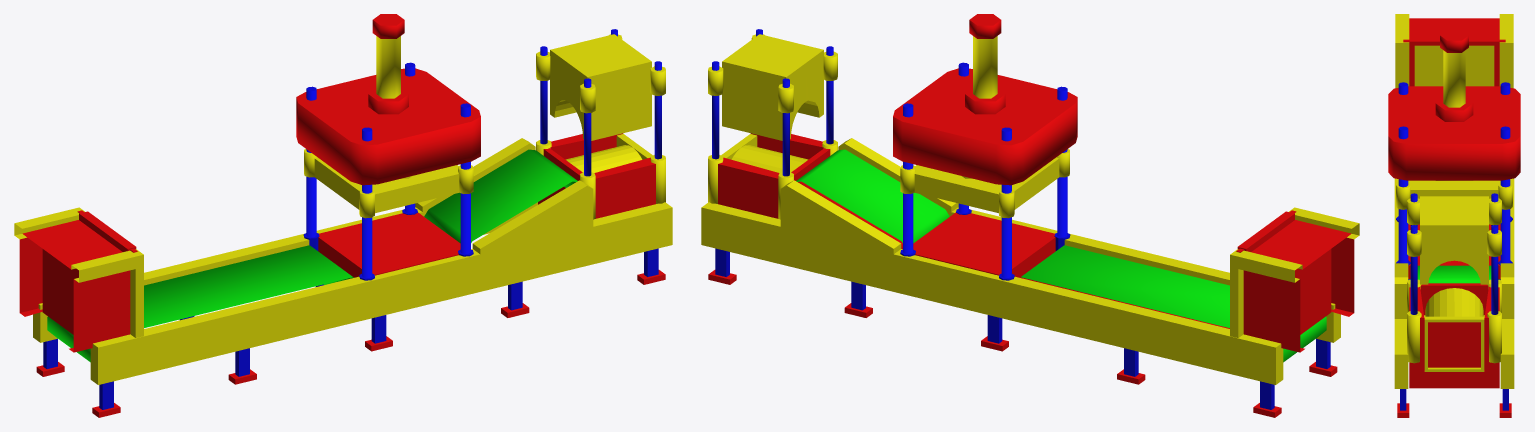
Rendered from Factory_Mechanism.fbx.
3 renders of one model, left to right at view 1: azimuth 30°, elevation 25°; view 2: azimuth 150°, elevation 25°; view 3: azimuth 270°, elevation 25°, orthographic. The views are drawn at different scales.
Parts seen in each view (by area): view 1: mesh_Factory_Mechanism; view 2: mesh_Factory_Mechanism; view 3: mesh_Factory_Mechanism.
Part boxes in pixels (x1=…): mesh_Factory_Mechanism: x1=14, y1=14, x2=672, y2=417; mesh_Factory_Mechanism: x1=701, y1=14, x2=1359, y2=417; mesh_Factory_Mechanism: x1=1388, y1=14, x2=1520, y2=417.
Bounding box in the file's own units: 915 × 435 × 191.
